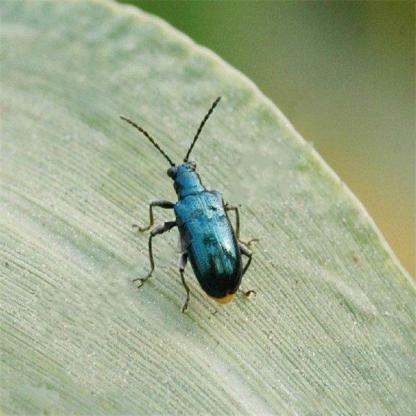beetle: (120, 99, 251, 318)
